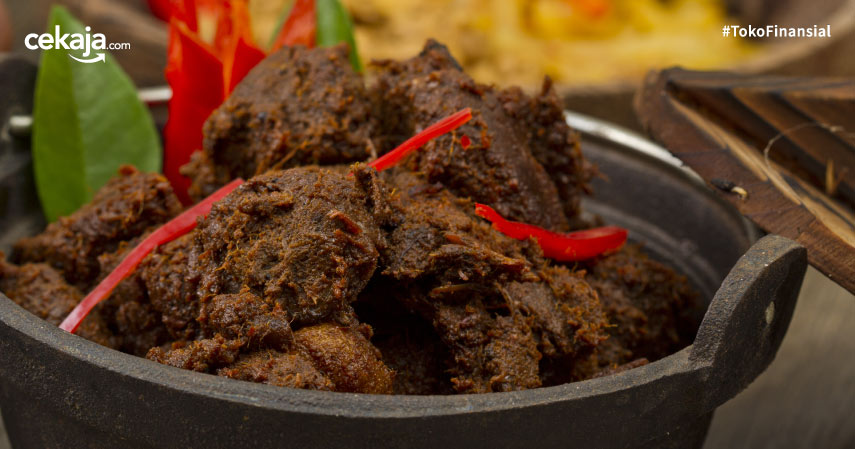rendang: (4, 16, 711, 406)
